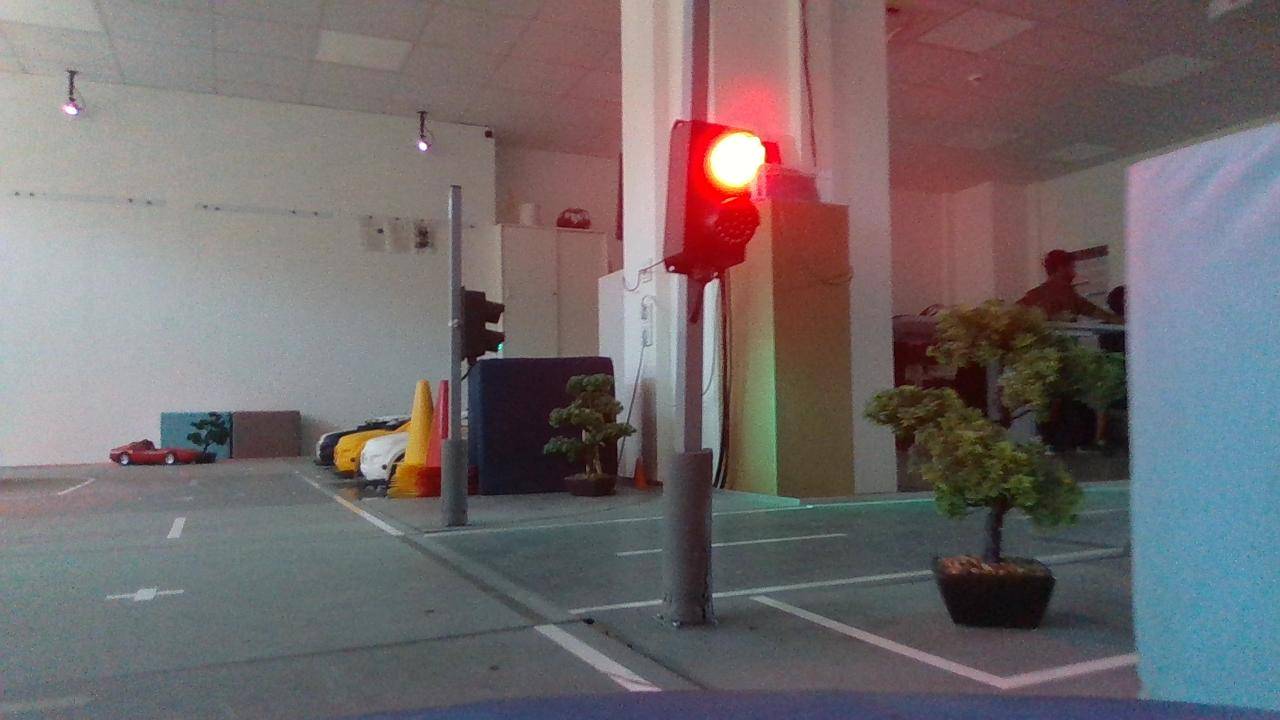traffic_light_red: (642, 96, 774, 284)
